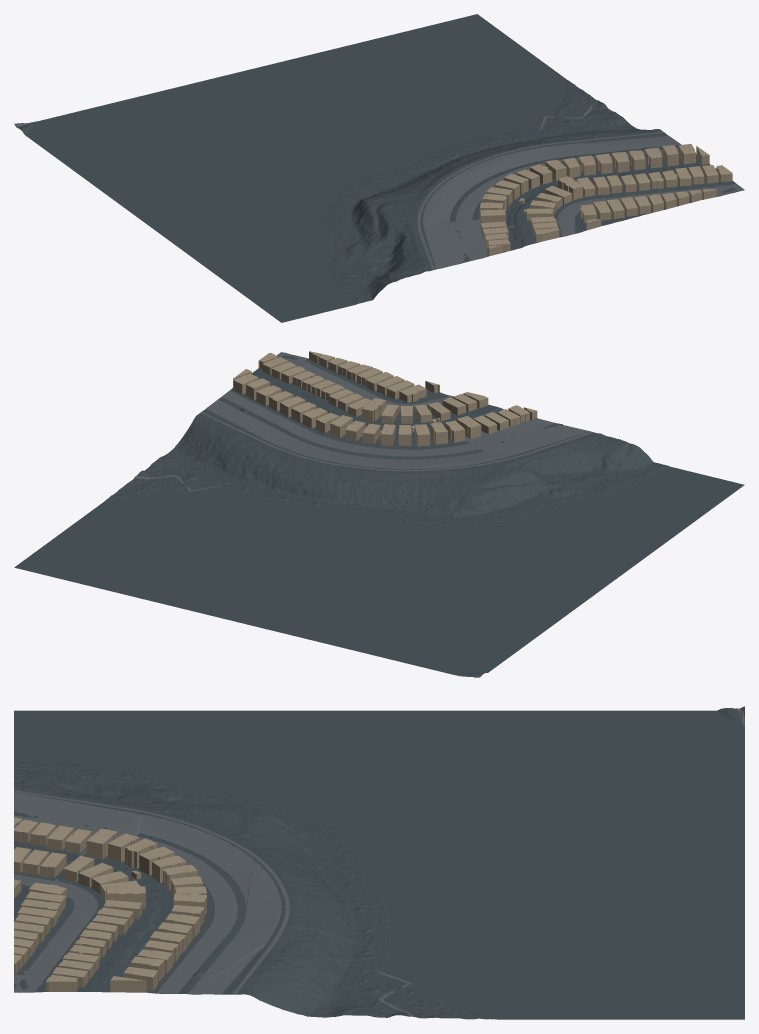
File: epsg26910-1417-10874.lod0.glb
3 views of the same model, one above another, from view 1: azimuth 30°, elevation 25°; view 2: azimuth 150°, elevation 25°; view 3: azimuth 270°, elevation 25° (orthographic). The views are drawn at different scales.
Parts seen in each view (by area): view 1: epsg26910-1417-10874-lod0; view 2: epsg26910-1417-10874-lod0; view 3: epsg26910-1417-10874-lod0.
Part boxes in pixels (bbox=[...]): epsg26910-1417-10874-lod0: bbox=[14, 14, 744, 322]; epsg26910-1417-10874-lod0: bbox=[14, 351, 744, 677]; epsg26910-1417-10874-lod0: bbox=[14, 706, 744, 1019].
Bounding box in the file's own units: 384 × 24.34 × 384.
